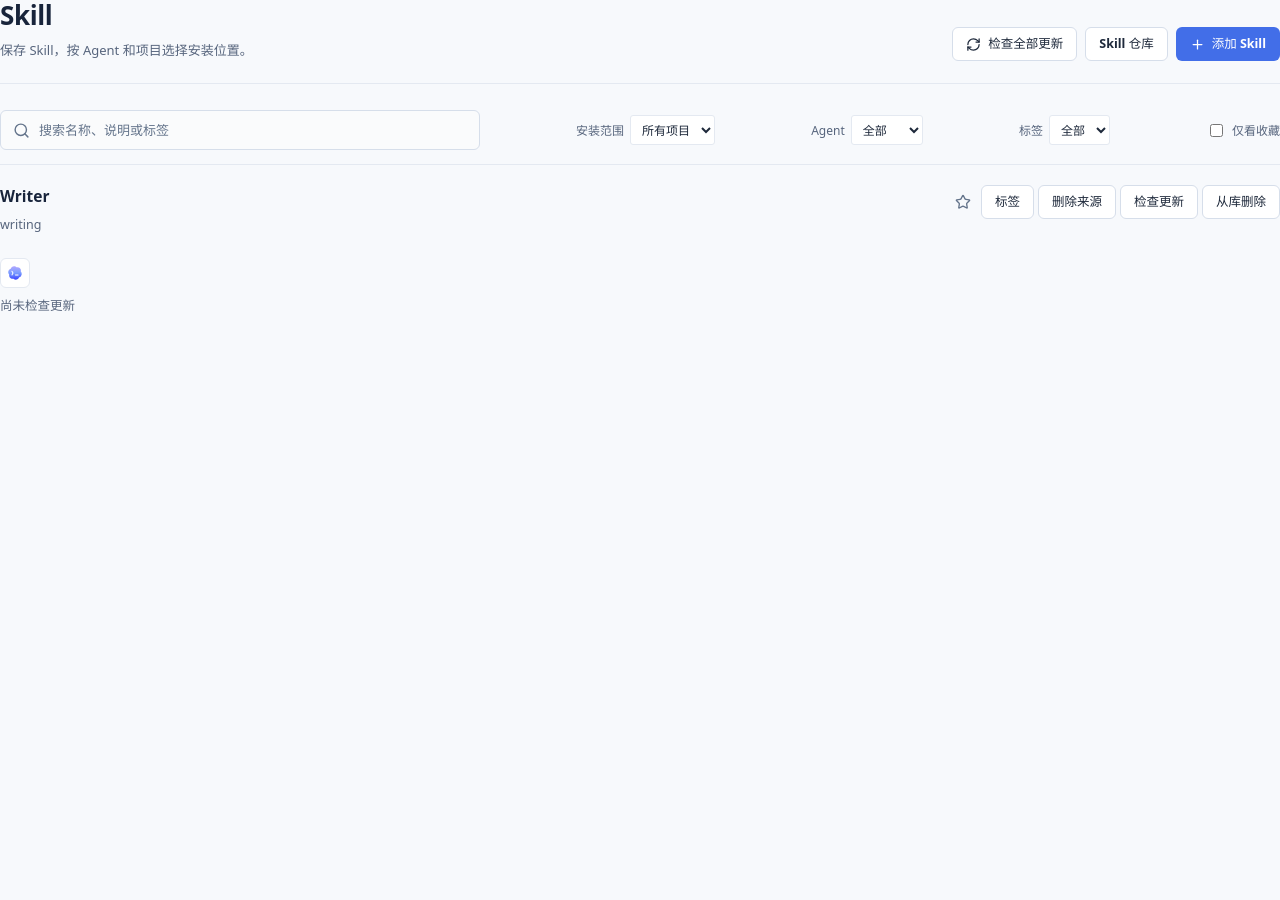
Test case: does not execute direct deletion when the core blocks the plan
The image size is (1280, 900).
Click the button "从库删除": [1241, 202] box [1202,185,1279,219]
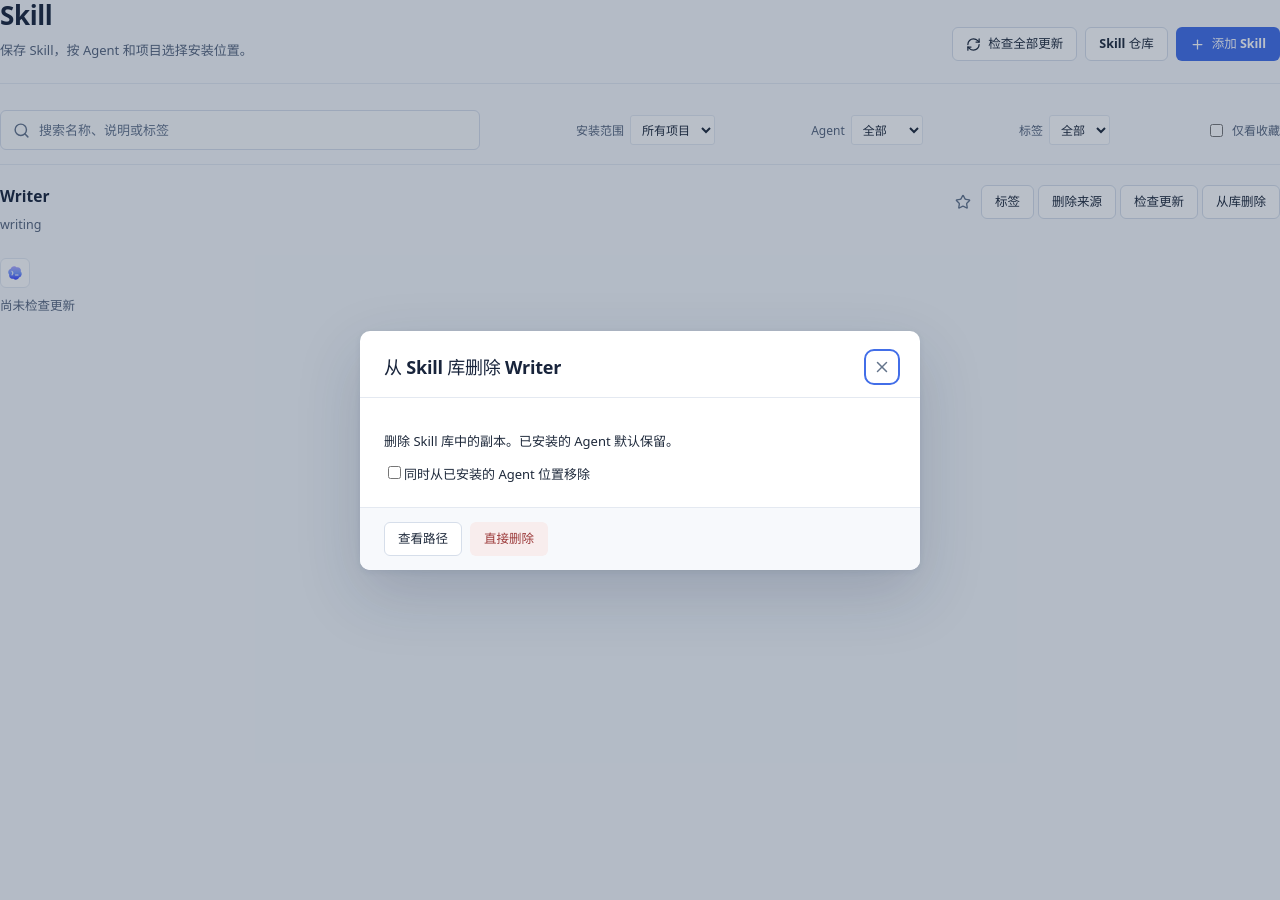
Click the button "直接删除": [509, 538] box [470,522,548,556]
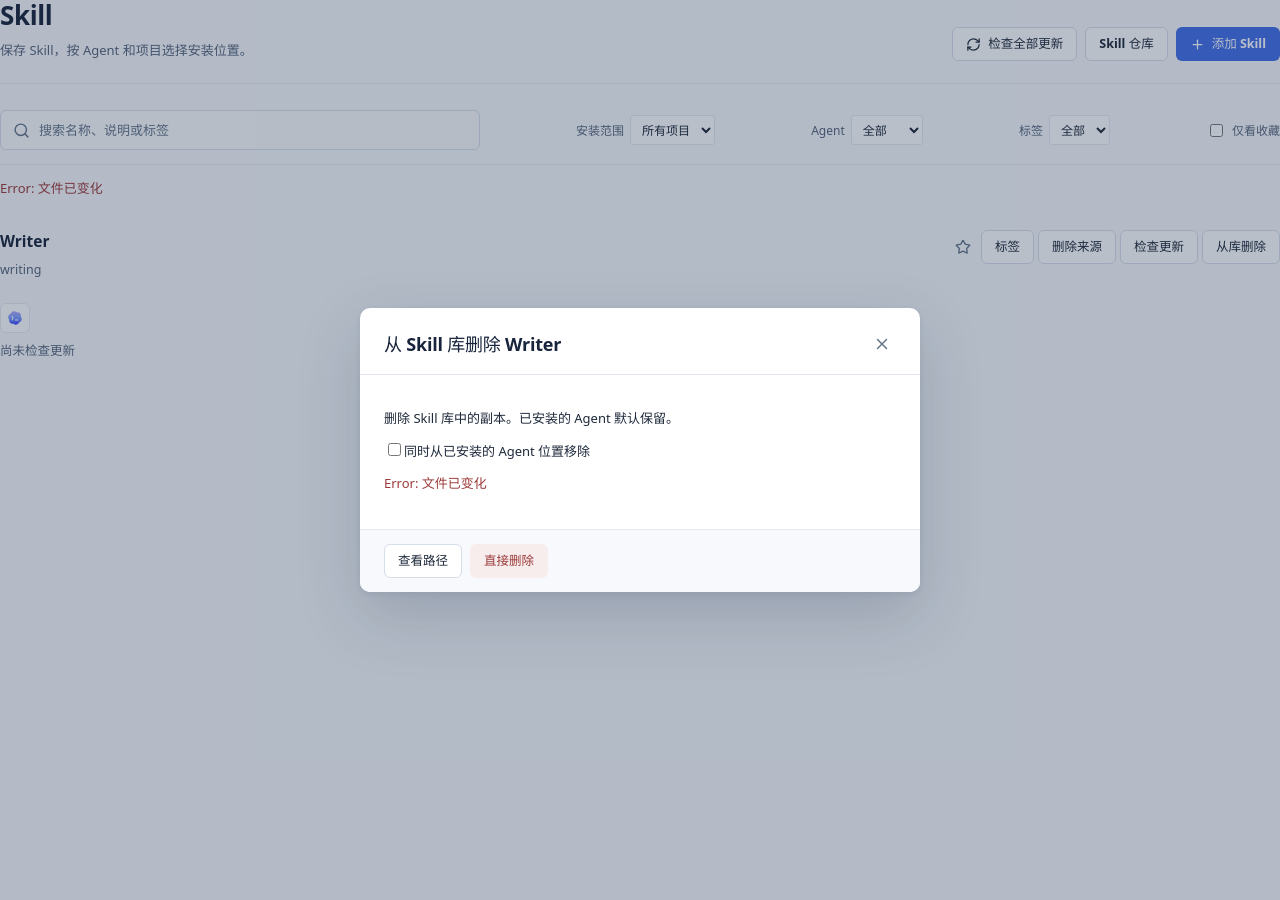
expect the message shows "文件已变化": met, box [384,474,487,492]
